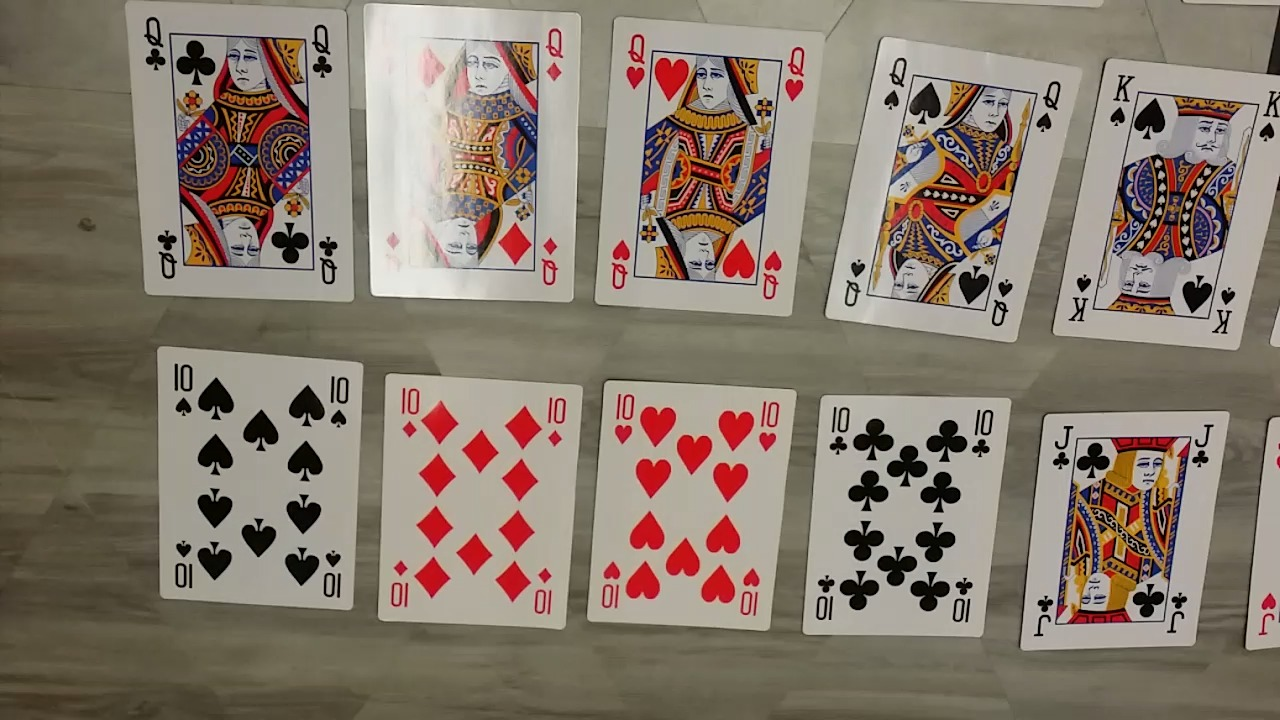10_club: (801, 390, 1011, 637)
10_diamond: (369, 368, 585, 633)
10_heart: (590, 373, 798, 639)
10_spade: (152, 342, 366, 611)
jack_club: (1016, 400, 1234, 652)
king_spade: (1049, 56, 1280, 356)
queen_club: (114, 0, 356, 302)
queen_diamond: (361, 0, 576, 301)
queen_heart: (589, 12, 822, 319)
queen_spade: (823, 33, 1082, 345)
